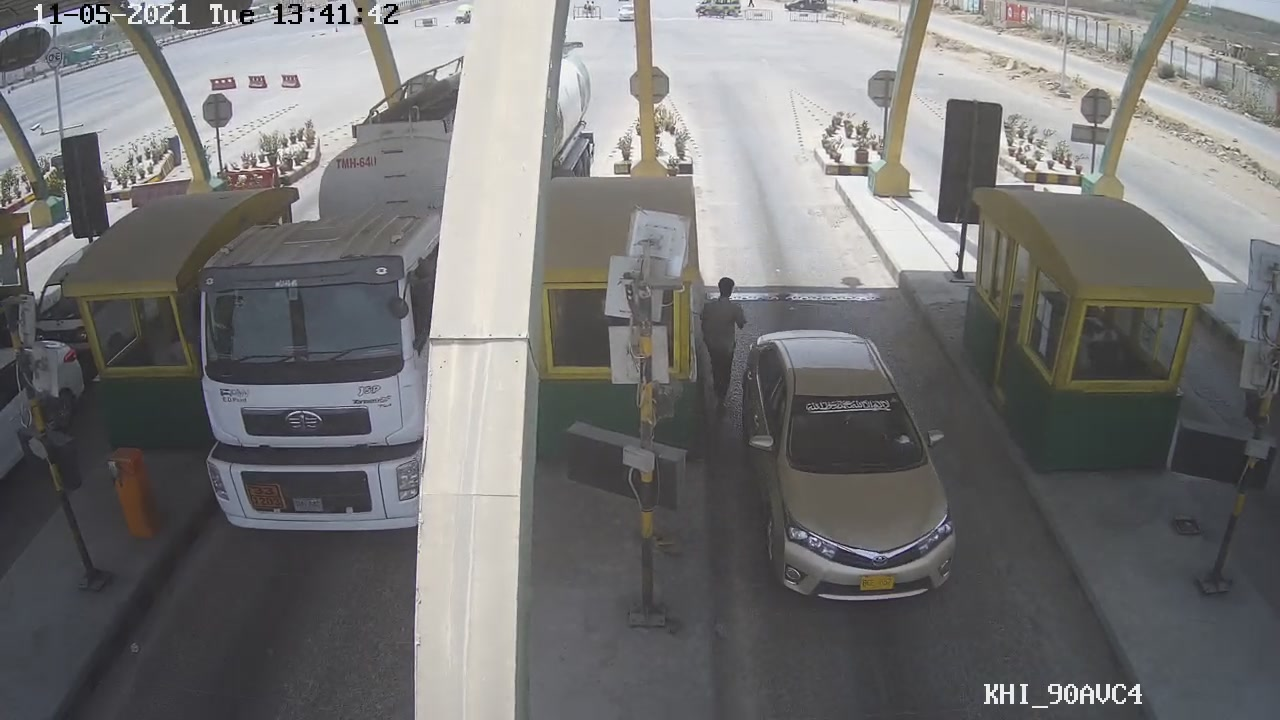F1: (735, 329, 970, 625)
